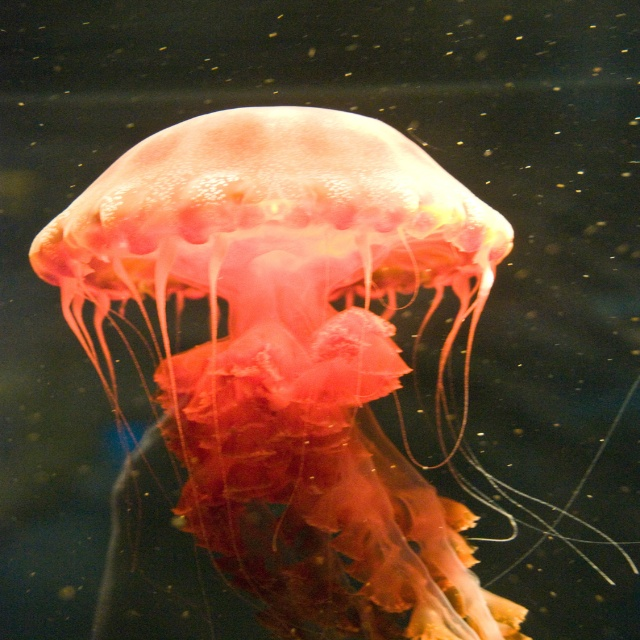Jellyfish: (23, 103, 520, 573)
